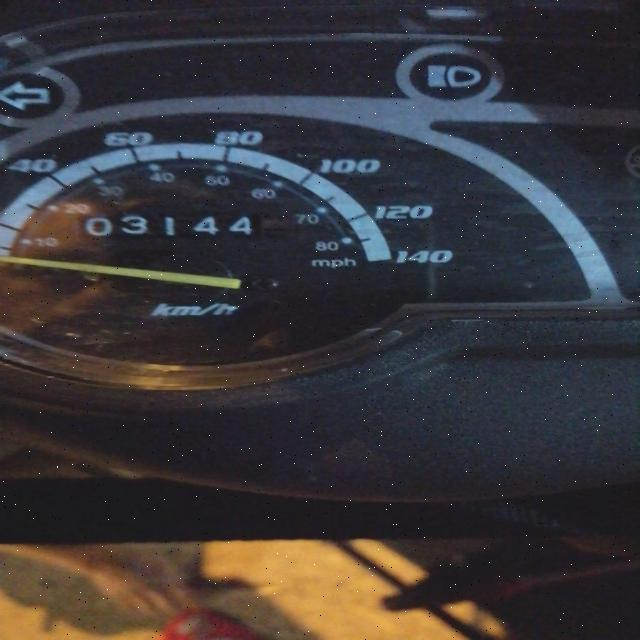odometer: (72, 213, 278, 244)
